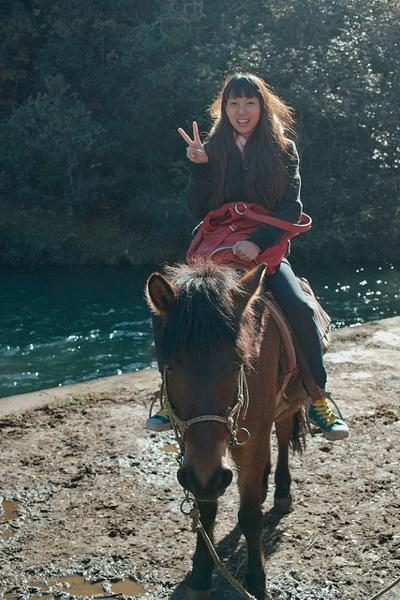person: (147, 75, 350, 441)
